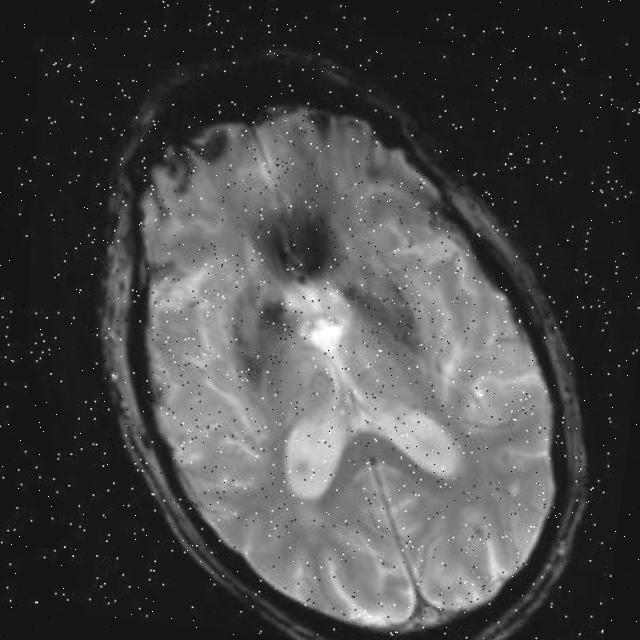EMCI: (227, 160, 349, 286), (182, 274, 306, 394), (335, 266, 429, 354)
